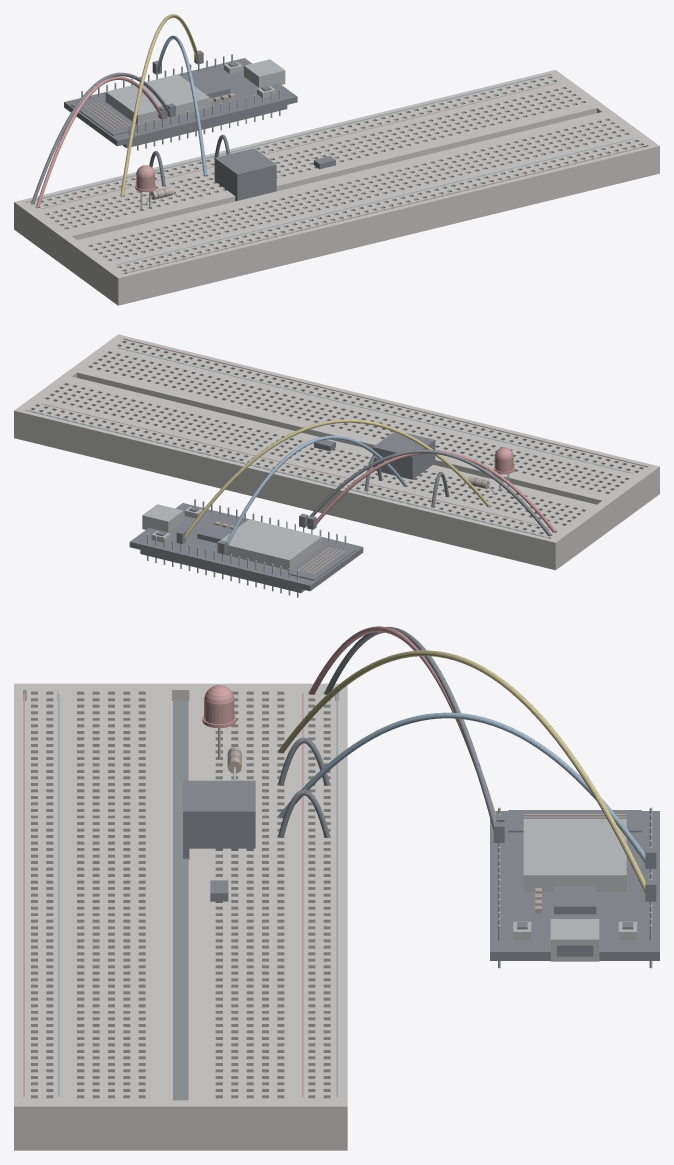
File: step-10.glb
3 renders of one model, top to bottom at view 1: azimuth 30°, elevation 25°; view 2: azimuth 150°, elevation 25°; view 3: azimuth 270°, elevation 25°, orthographic. The views are drawn at different scales.
Visible parts, largest first — view 1: breadboard_1__mesh, arduino_uno__mesh, buzzer_1__mesh, wire_led_sig__mesh, wire_main_gnd__mesh, wire_main_5v__mesh, wire_buzzer_sig__mesh, led_red__mesh; view 2: breadboard_1__mesh, arduino_uno__mesh, buzzer_1__mesh, wire_led_sig__mesh, wire_main_gnd__mesh, wire_main_5v__mesh, wire_buzzer_sig__mesh, led_red__mesh; view 3: breadboard_1__mesh, arduino_uno__mesh, buzzer_1__mesh, wire_led_sig__mesh, wire_buzzer_sig__mesh, wire_main_gnd__mesh, wire_main_5v__mesh, led_red__mesh.
Part boxes in pixels (<box>): breadboard_1__mesh: <box>14,70,659,305</box>; arduino_uno__mesh: <box>64,54,297,150</box>; buzzer_1__mesh: <box>214,148,276,201</box>; wire_led_sig__mesh: <box>120,14,203,196</box>; wire_main_gnd__mesh: <box>31,72,175,203</box>; wire_main_5v__mesh: <box>36,76,167,207</box>; wire_buzzer_sig__mesh: <box>152,35,207,175</box>; led_red__mesh: <box>135,165,156,210</box>; breadboard_1__mesh: <box>14,334,659,570</box>; arduino_uno__mesh: <box>129,499,363,597</box>; buzzer_1__mesh: <box>373,432,435,479</box>; wire_led_sig__mesh: <box>176,419,490,544</box>; wire_main_gnd__mesh: <box>299,449,550,535</box>; wire_main_5v__mesh: <box>307,450,555,532</box>; wire_buzzer_sig__mesh: <box>218,435,407,554</box>; led_red__mesh: <box>493,447,514,492</box>; breadboard_1__mesh: <box>14,683,347,1150</box>; arduino_uno__mesh: <box>490,807,659,968</box>; buzzer_1__mesh: <box>183,780,255,859</box>; wire_led_sig__mesh: <box>278,650,656,901</box>; wire_buzzer_sig__mesh: <box>278,712,656,868</box>; wire_main_gnd__mesh: <box>324,626,504,842</box>; wire_main_5v__mesh: <box>309,626,504,821</box>; led_red__mesh: <box>202,685,236,758</box>.
Size of the model in its own units: 0.165 by 0.0386 by 0.1065.
